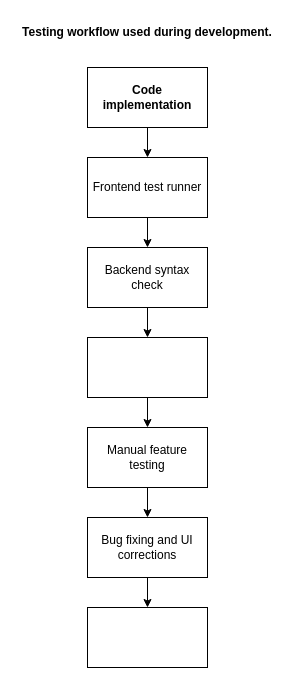
The diagram is 294 pixels wide and 685 high, and some of its shapes have lost their labels. The box of each missing label's shape, as (x1, y1, x2, y2) in pixels:
Final evaluation: (86, 606, 208, 668)
Production build: (86, 336, 208, 398)
